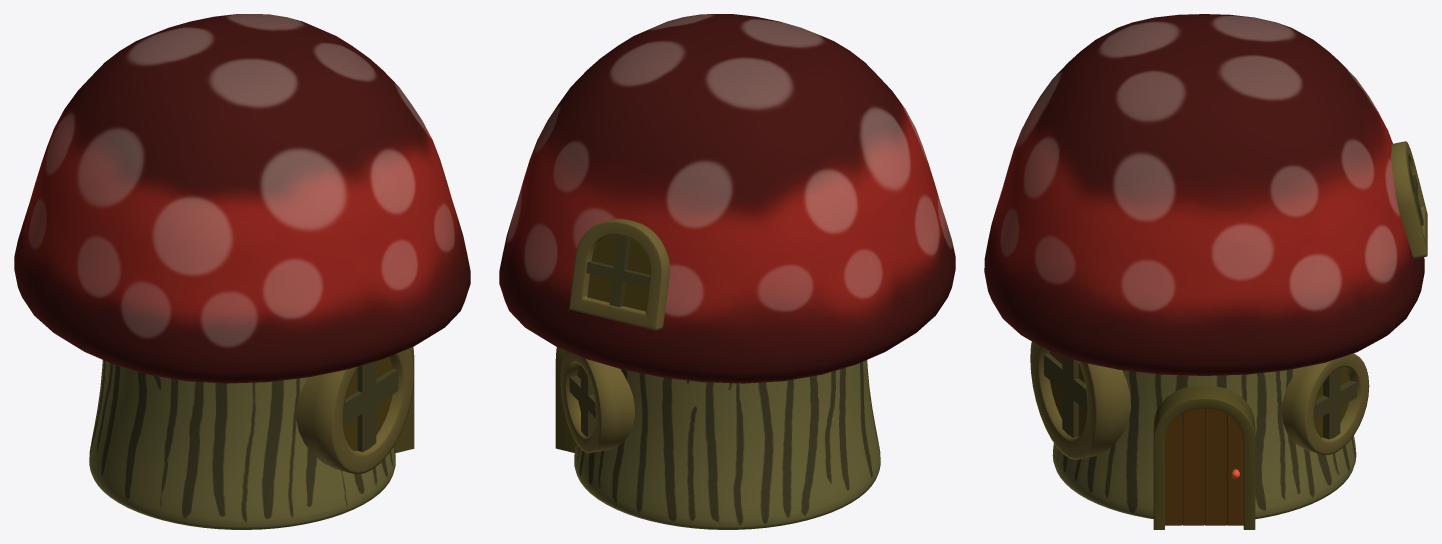
File: MantarEv.fbx
3 views of the same model, side by side, from view 1: azimuth 30°, elevation 25°; view 2: azimuth 150°, elevation 25°; view 3: azimuth 270°, elevation 25° (orthographic).
Parts seen in each view (by area): view 1: sapka, sap, CircleWinCerceve.001, CircleWinCita.001, CircleWinCam.001, kapiBorder; view 2: sapka, sap, WindowBorder, CircleWinCerceve, WindowCam, WindowCita, kapiBorder, CircleWinCita; view 3: sapka, sap, Kapi, CircleWinCerceve.001, kapiBorder, CircleWinCerceve, WindowBorder, CircleWinCita.001, CircleWinCita, CircleWinCam.001.
Part boxes in pixels (bbox=[...]): sapka: bbox=[14, 14, 470, 383]; sap: bbox=[89, 360, 395, 529]; CircleWinCerceve.001: bbox=[296, 348, 414, 474]; CircleWinCita.001: bbox=[343, 361, 398, 451]; CircleWinCam.001: bbox=[343, 357, 392, 450]; kapiBorder: bbox=[394, 347, 414, 453]; sapka: bbox=[499, 14, 955, 383]; sap: bbox=[574, 360, 880, 529]; WindowBorder: bbox=[569, 218, 670, 330]; CircleWinCerceve: bbox=[560, 351, 634, 453]; WindowCam: bbox=[587, 235, 650, 311]; WindowCita: bbox=[586, 235, 650, 307]; kapiBorder: bbox=[555, 347, 576, 452]; CircleWinCita: bbox=[569, 365, 595, 436]; sapka: bbox=[984, 14, 1424, 375]; sap: bbox=[1052, 368, 1356, 519]; Kapi: bbox=[1165, 408, 1243, 525]; CircleWinCerceve.001: bbox=[1030, 341, 1130, 460]; kapiBorder: bbox=[1153, 385, 1255, 529]; CircleWinCerceve: bbox=[1282, 353, 1369, 455]; WindowBorder: bbox=[1391, 141, 1427, 259]; CircleWinCita.001: bbox=[1043, 353, 1087, 437]; CircleWinCita: bbox=[1313, 368, 1357, 439]; CircleWinCam.001: bbox=[1049, 351, 1087, 436].
Size of what is drawn, in the model's own units: 609 by 637 by 613.
8 materials, 2 textured.
